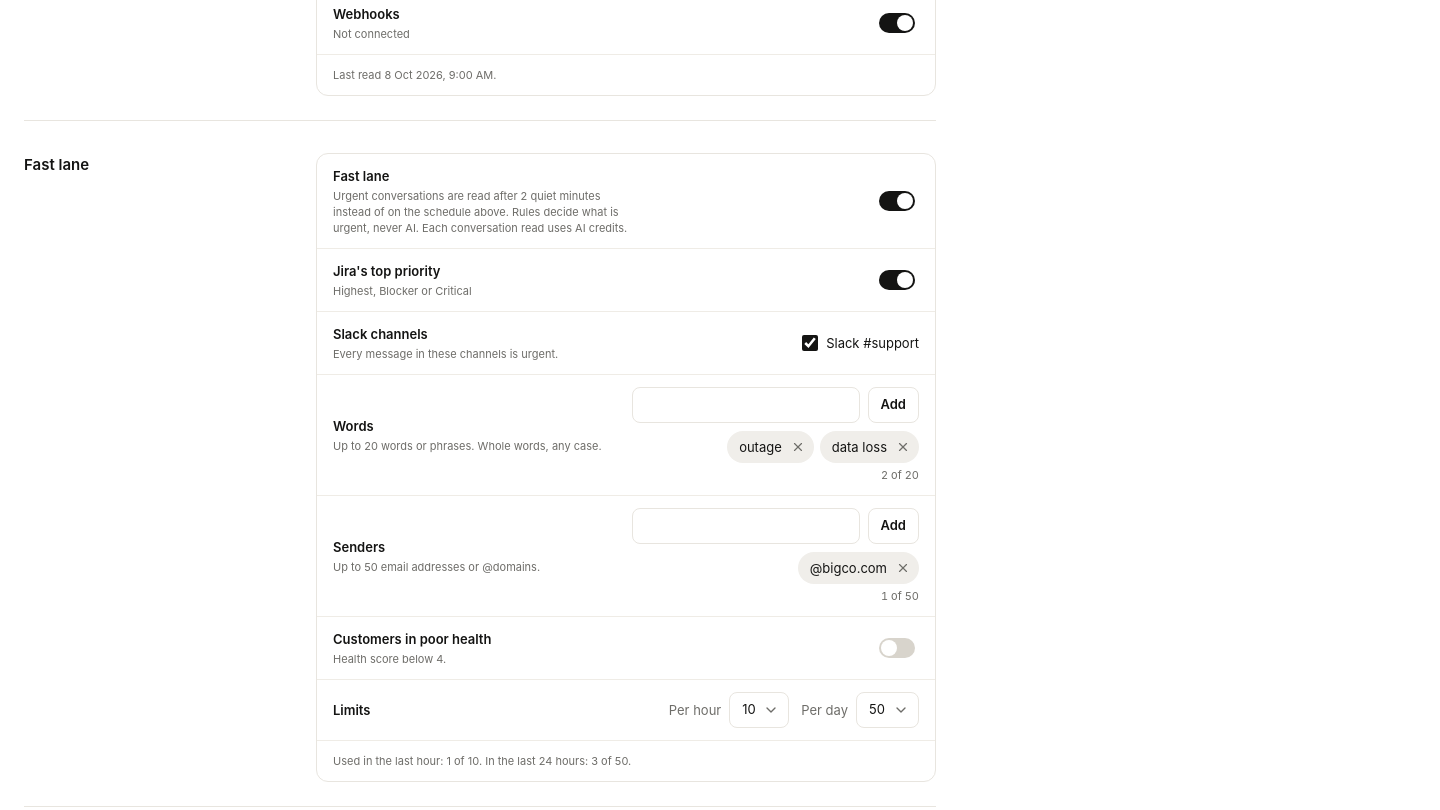
Scenario: FastLane (round 2 D3 frontend Decision 7) › adds and removes words, and shows a refusal under them
This screenshot has width=1440, height=810.
(page scrolled)
Check: the text "2 of 20" is shown, box [881,467,919,483]
In the field named "Words": (746, 405) [632,387,860,423], type "x"
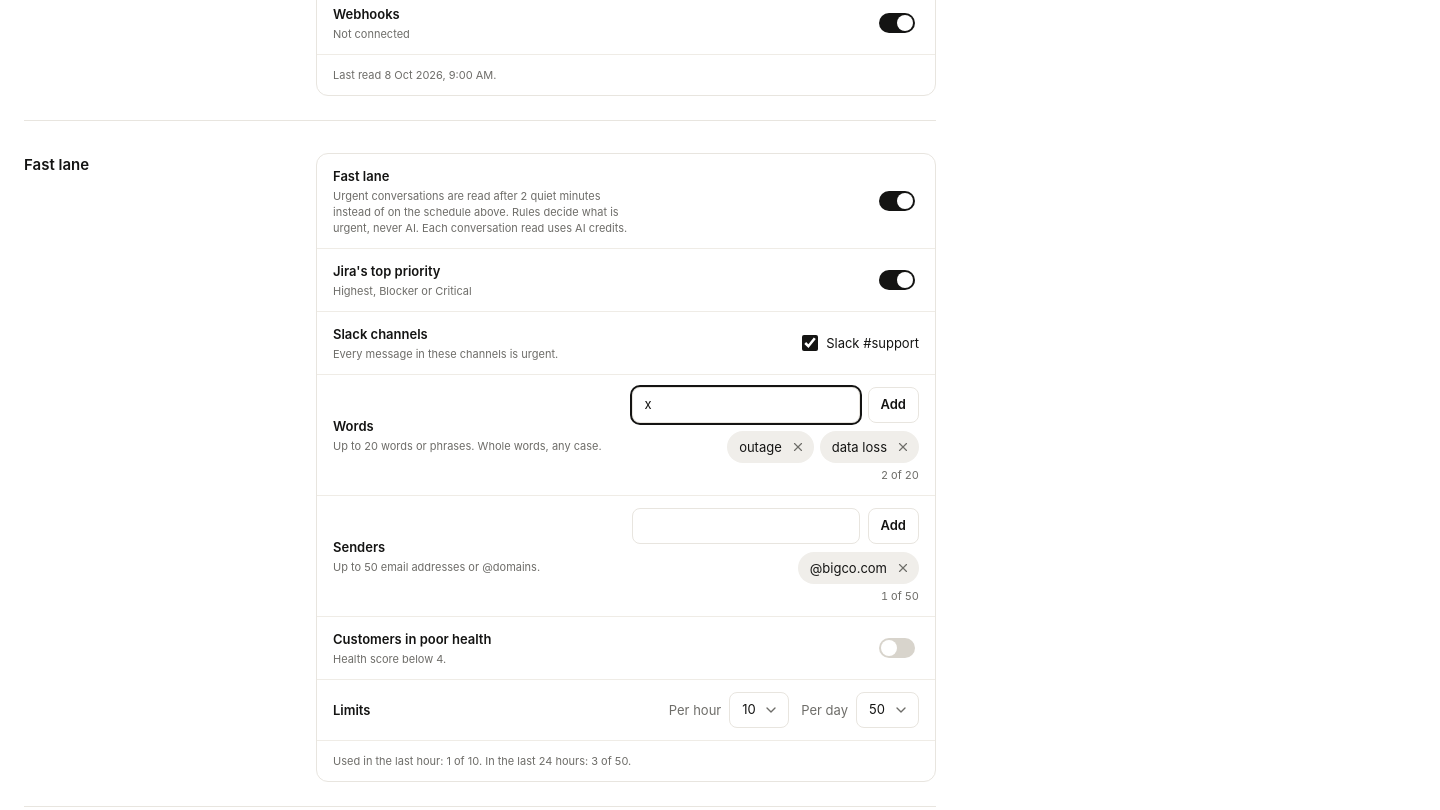
Click the 1st button "Add": (893, 405) [868,387,919,423]
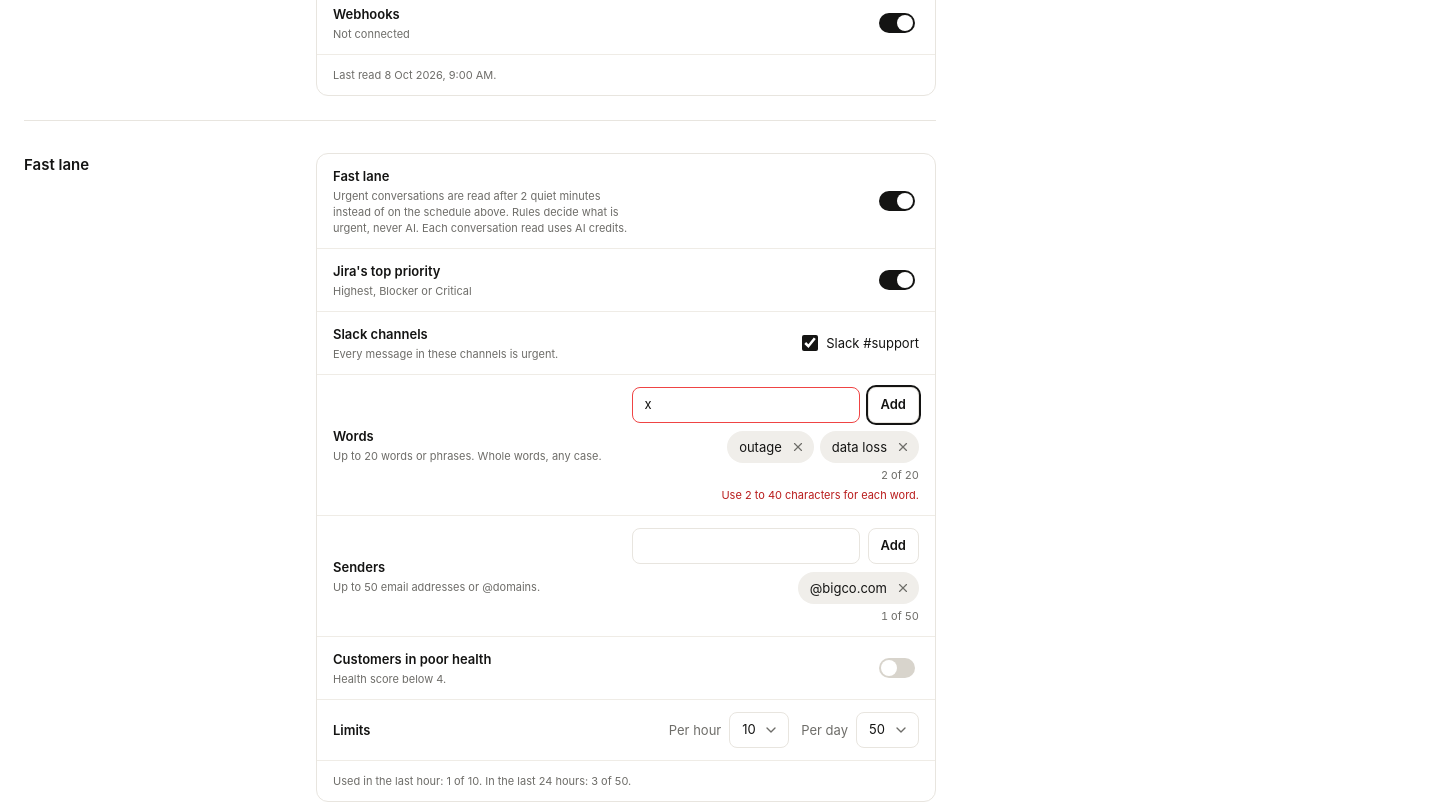
Check: the text "Use 2 to 40 characters for each word." is shown, box [721,487,919,503]
Click the button named "Remove outage": (798, 447) [786,435,810,459]
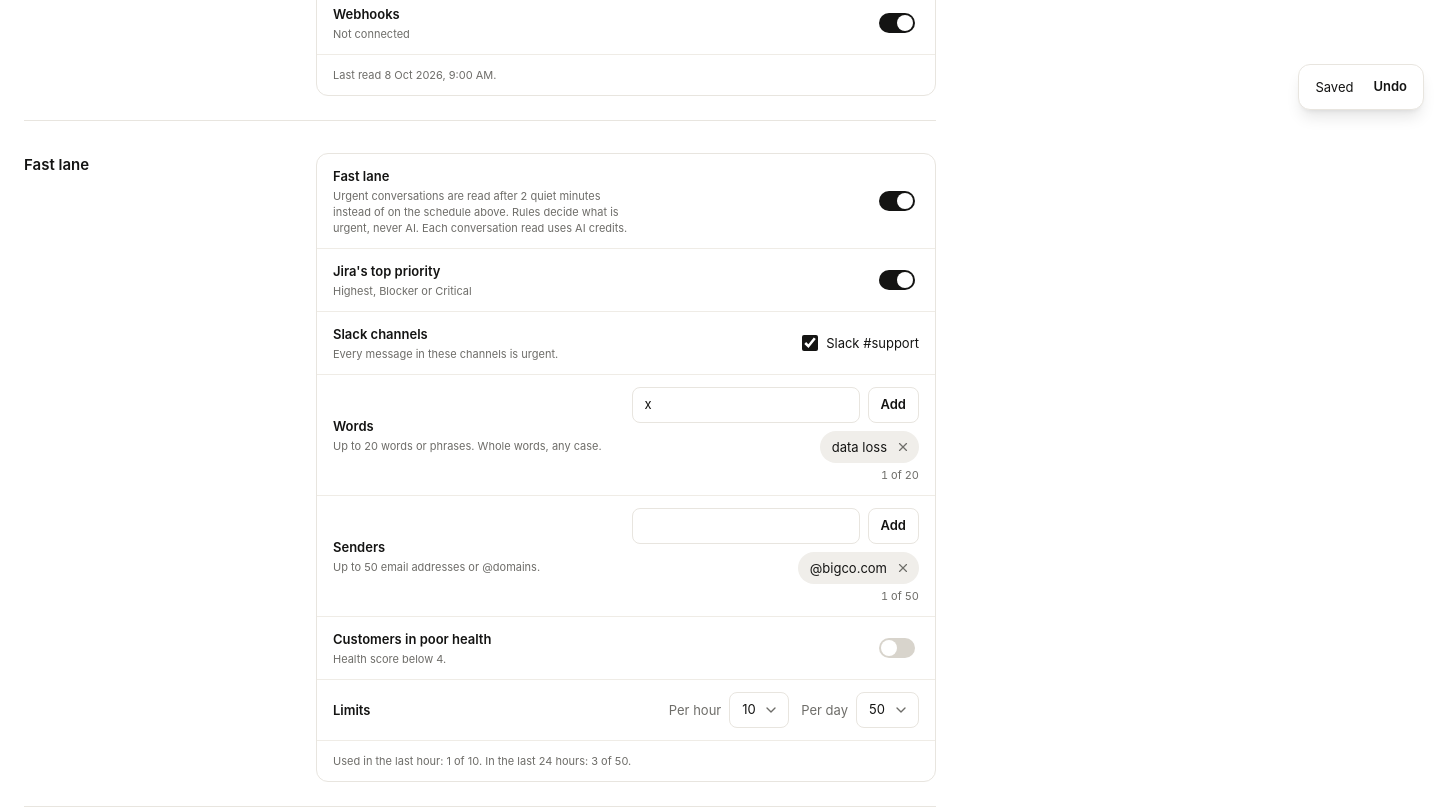
Check: the text "Use 2 to 40 characters for each word." is gone
